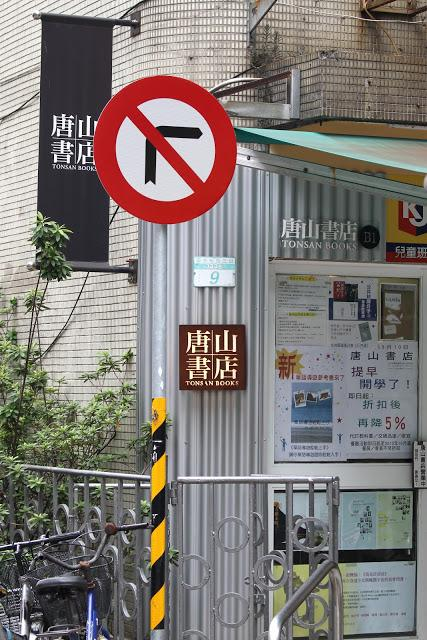no_right_turn: (94, 74, 236, 223)
